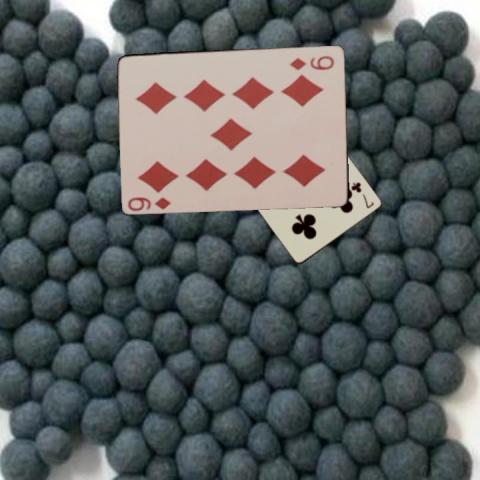7c: (350, 179, 376, 210)
9d: (287, 53, 335, 71), (125, 193, 173, 211)
